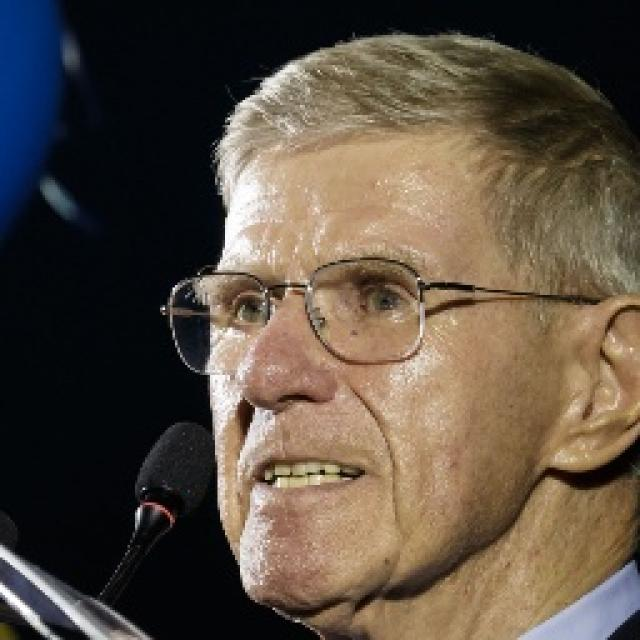earlobe: (551, 414, 612, 475)
eye: (352, 284, 414, 317), (221, 294, 274, 324)
nose: (250, 396, 340, 443)
wholeear: (550, 292, 640, 472)
